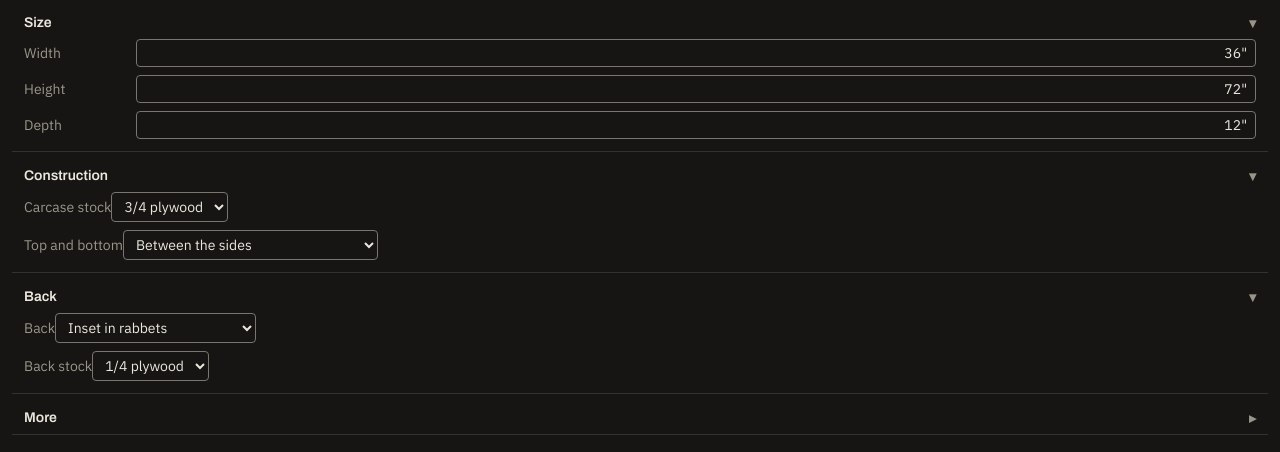
it: the Shape step › removes the back: the back stock field goes and the cut list loses its back line
Select "None" in the dropdown labelled "Back" at coordinates (156, 328), box [55,313,256,343]
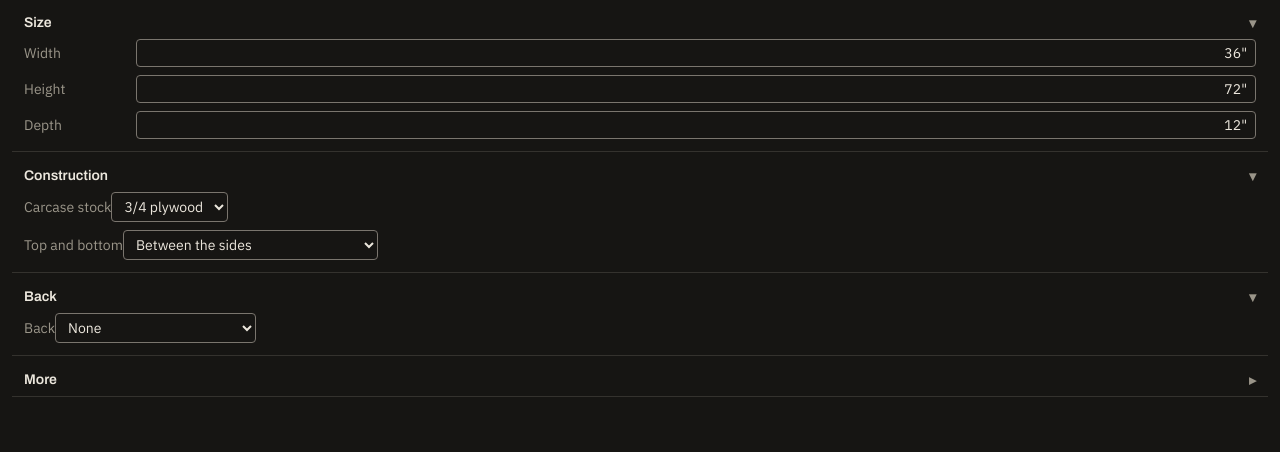
Now the label labelled "Back stock" is gone
